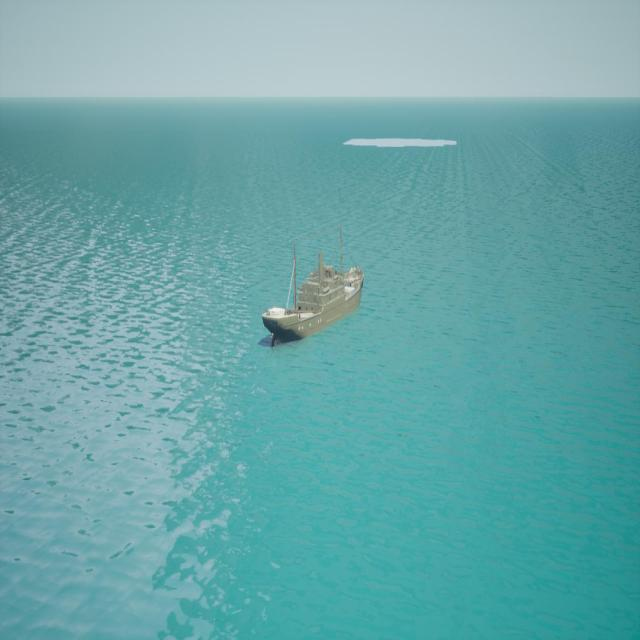fishing ship: (261, 229, 365, 348)
